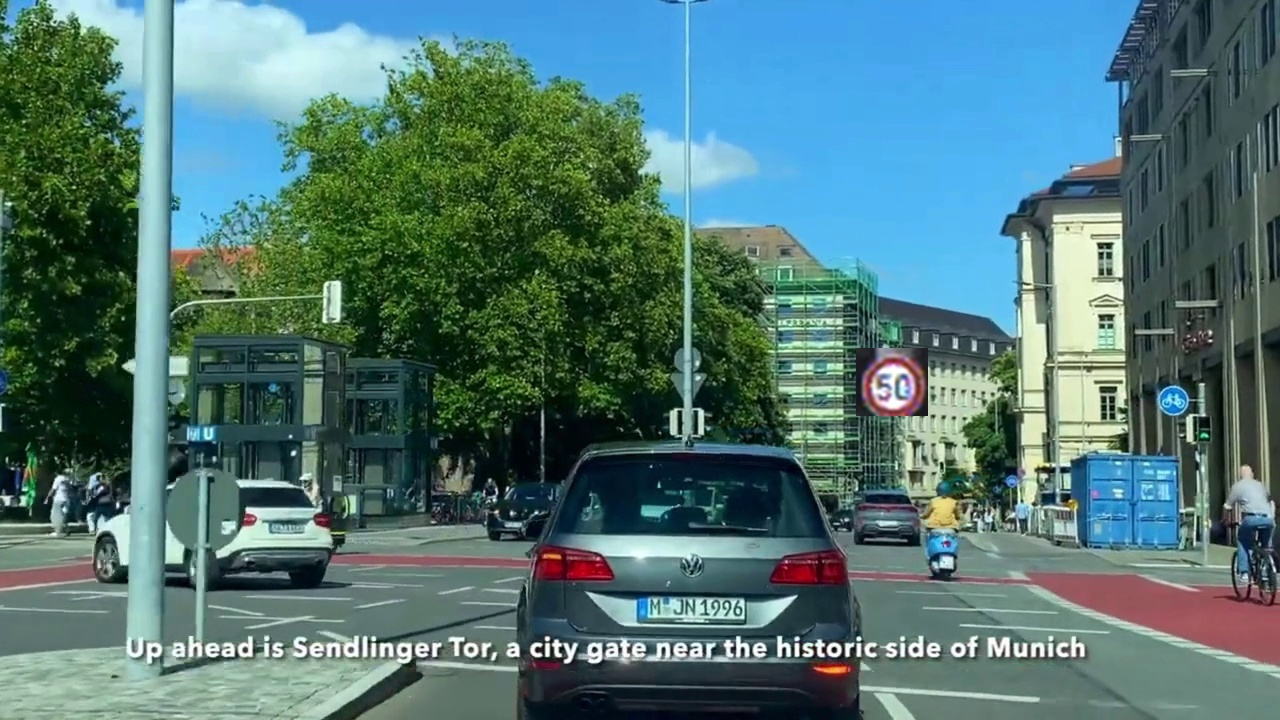Speed 50: (856, 348, 928, 416)
